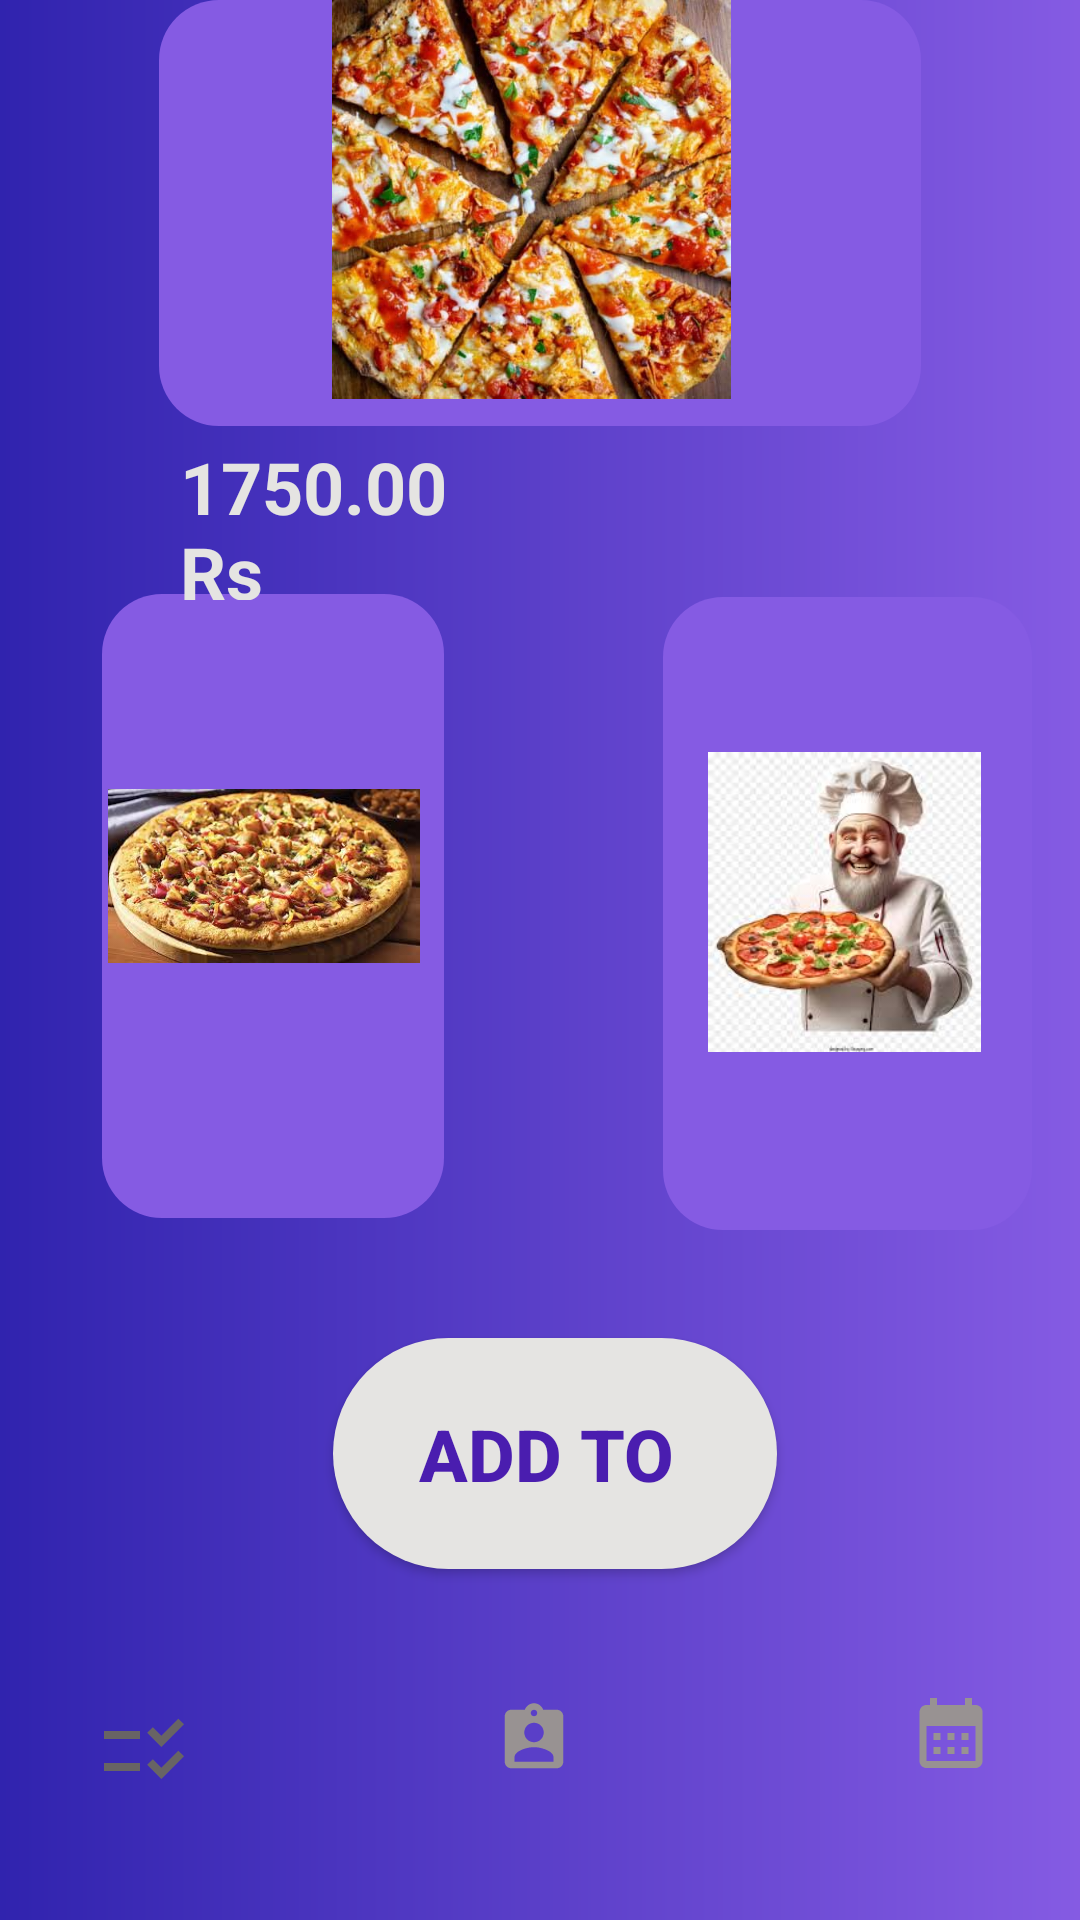

Icons on this 1080px x 1920px Android screen, each with the point to tap as (x,y):
chef: (844,902)
list: (144,1749)
